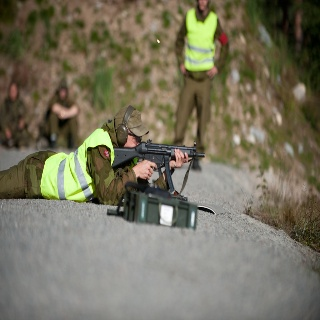rifle: (108, 141, 205, 194)
